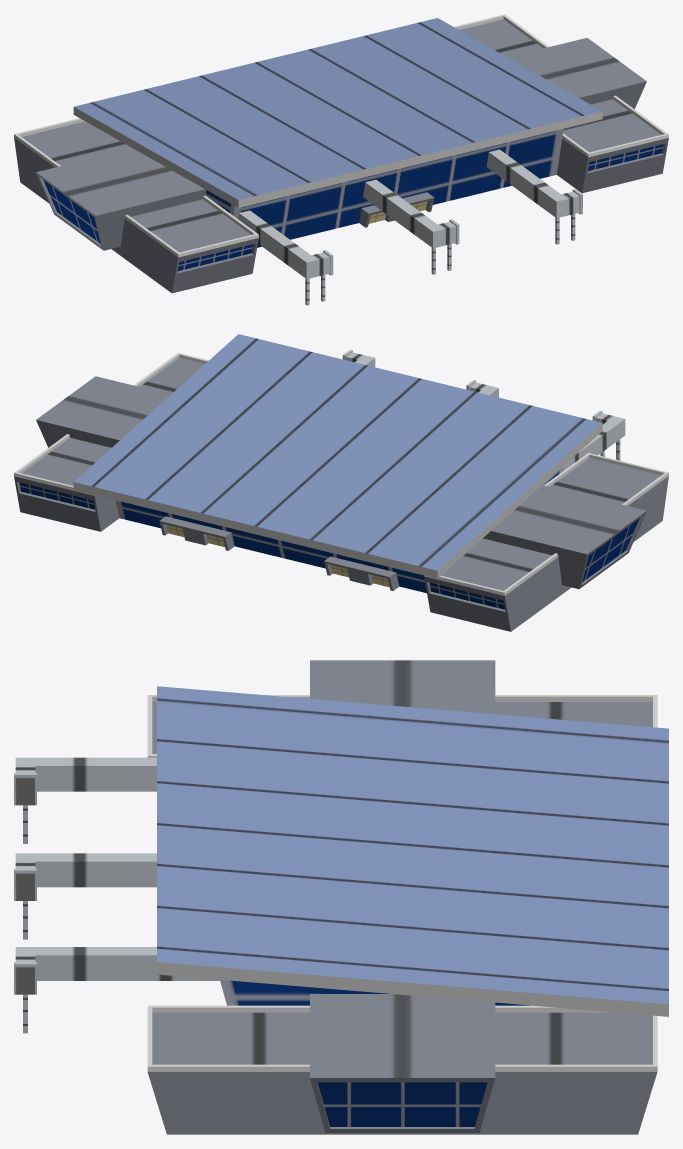
File: Terminal.fbx
The picture shows the model from 3 angles, top to bottom: view 1: azimuth 30°, elevation 25°; view 2: azimuth 150°, elevation 25°; view 3: azimuth 270°, elevation 25°; orthographic projection. The views are drawn at different scales.
Visible parts, largest first — view 1: Terminal; view 2: Terminal; view 3: Terminal.
Boxes of the visible parts, box(x1,y1,x2,y2) form: Terminal: box(14, 14, 668, 305); Terminal: box(14, 334, 668, 631); Terminal: box(14, 660, 668, 1134).
Size of the model in its own units: 10043 by 1396 by 6654.
Materials: 1 (1 with a texture image).
